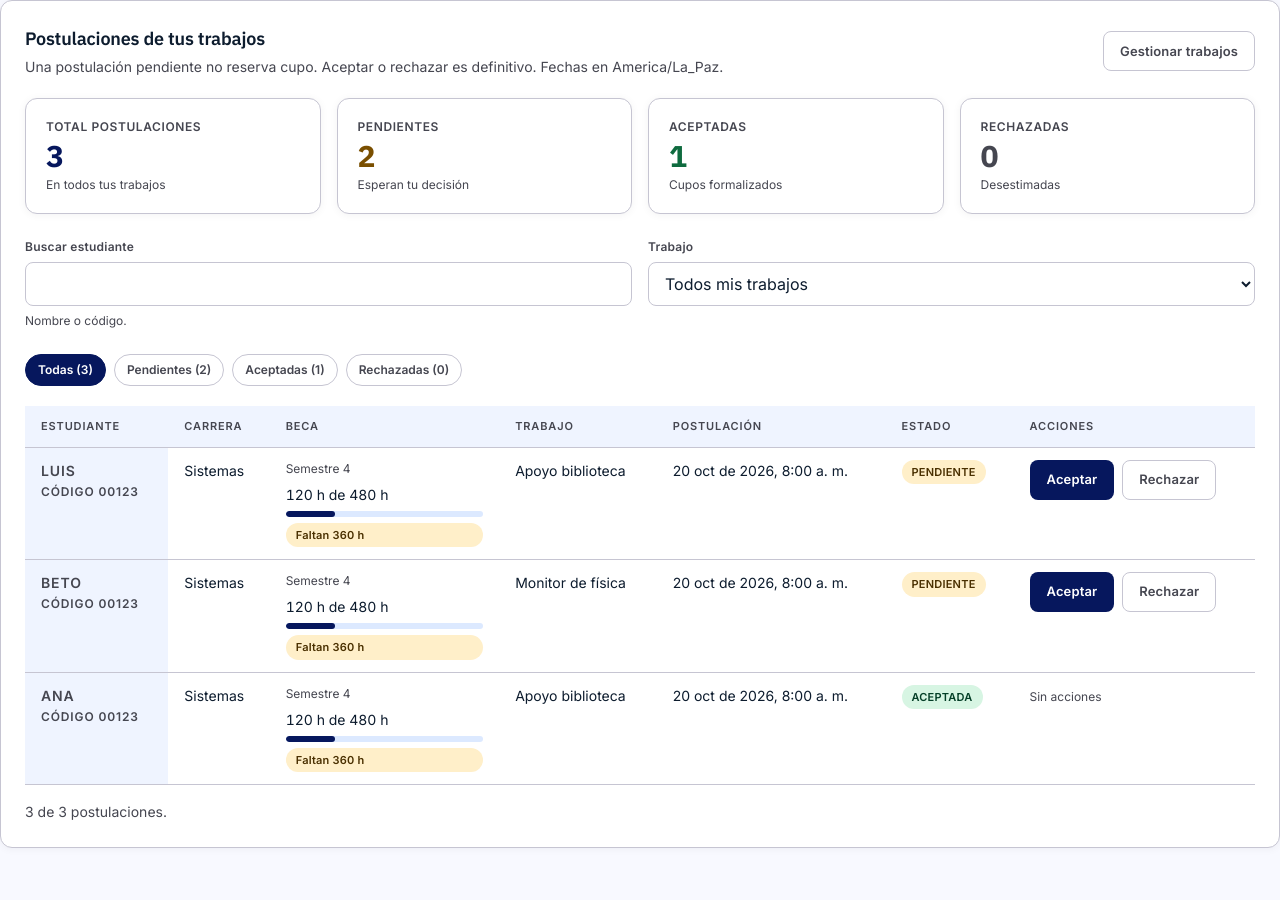
Test: pantalla de postulaciones del encargado › filtra por estado con los chips y por nombre
Click the button "Aceptadas (1)" at (285, 370), box [232,354,338,386]
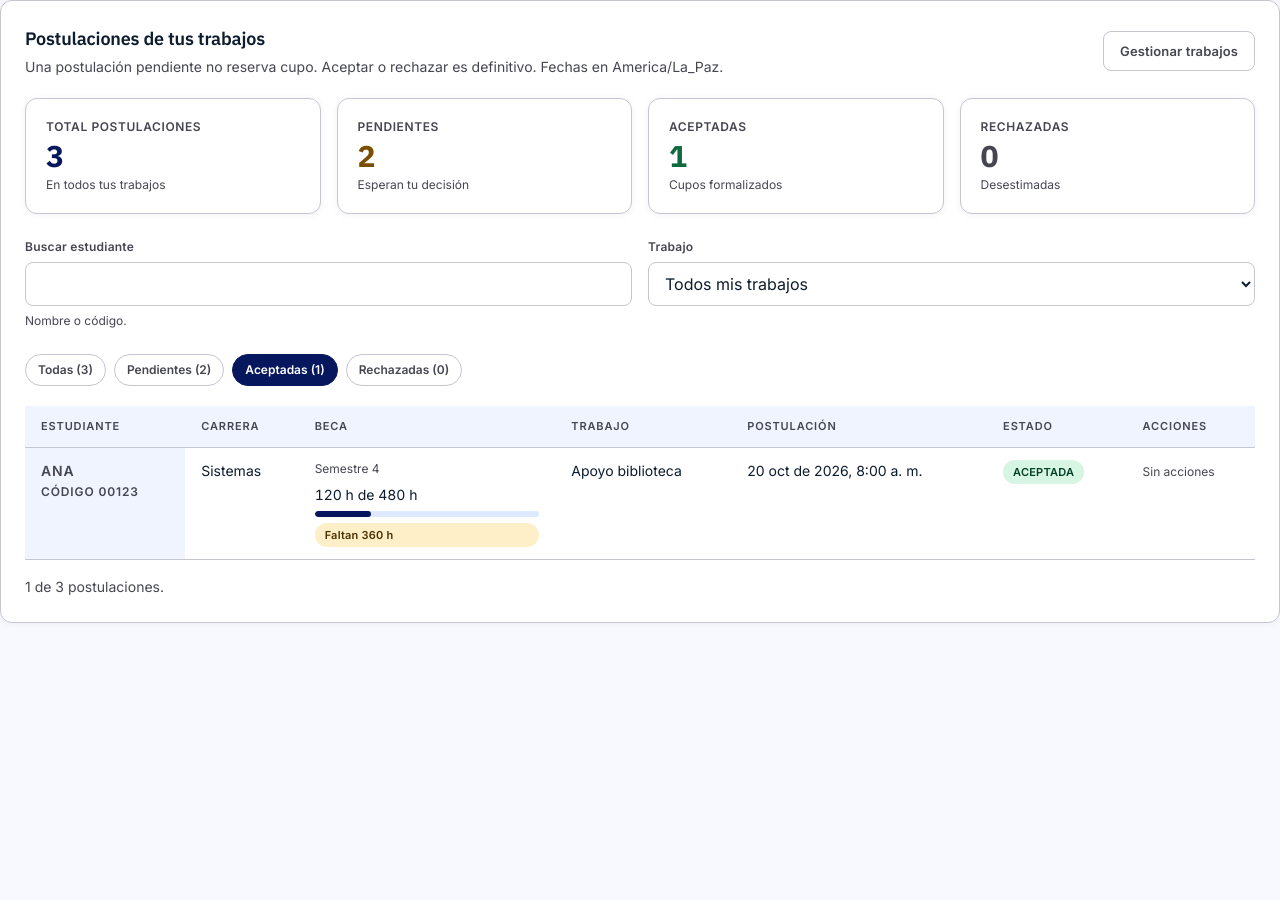
Check: the text "Luis" is gone
Check: the text "Ana" is shown 2 times
Click the button "Todas (3)" at (65, 370), box [25,354,106,386]
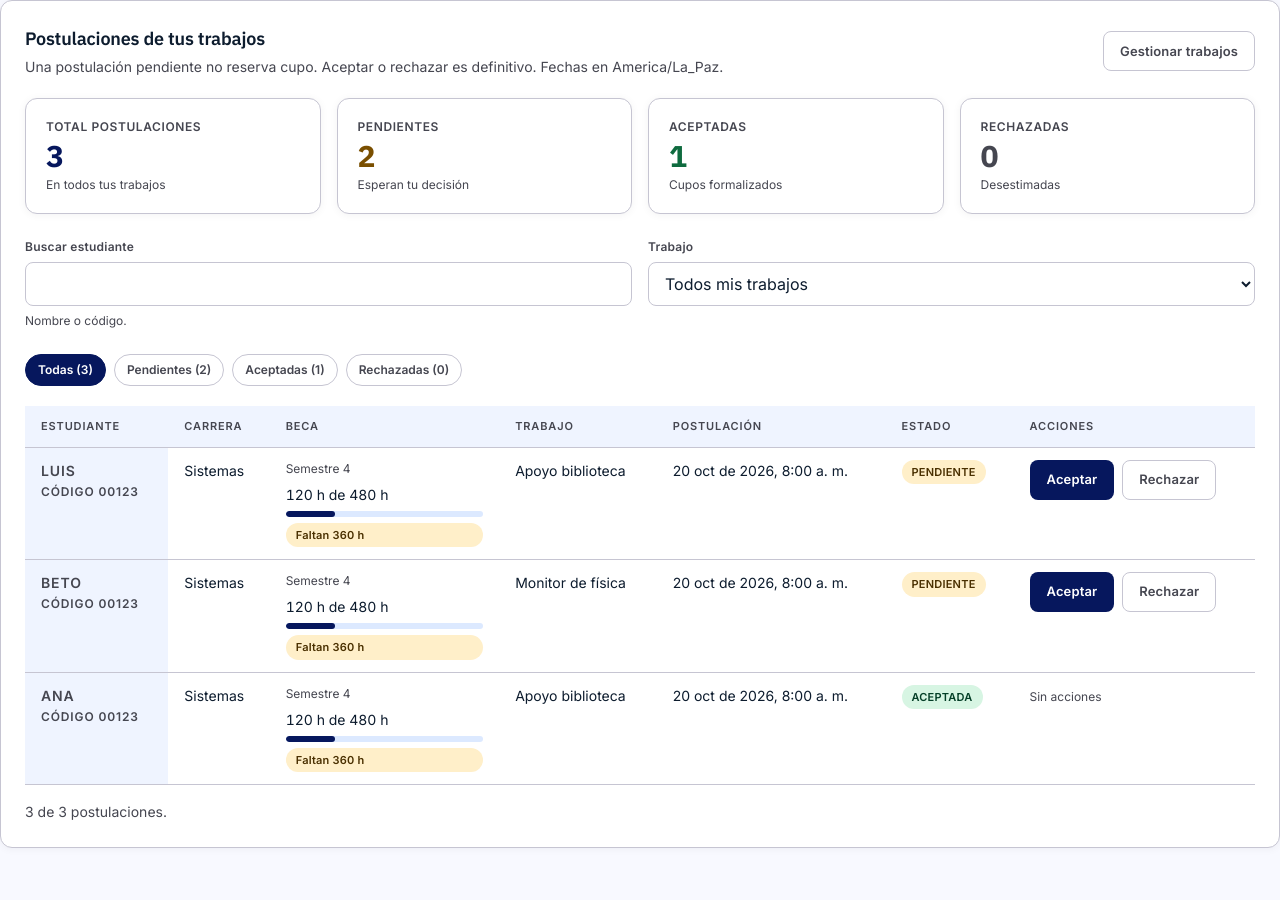
Type "bet" into the search field labelled "Buscar estudiante" at (328, 284), box [25,262,632,306]
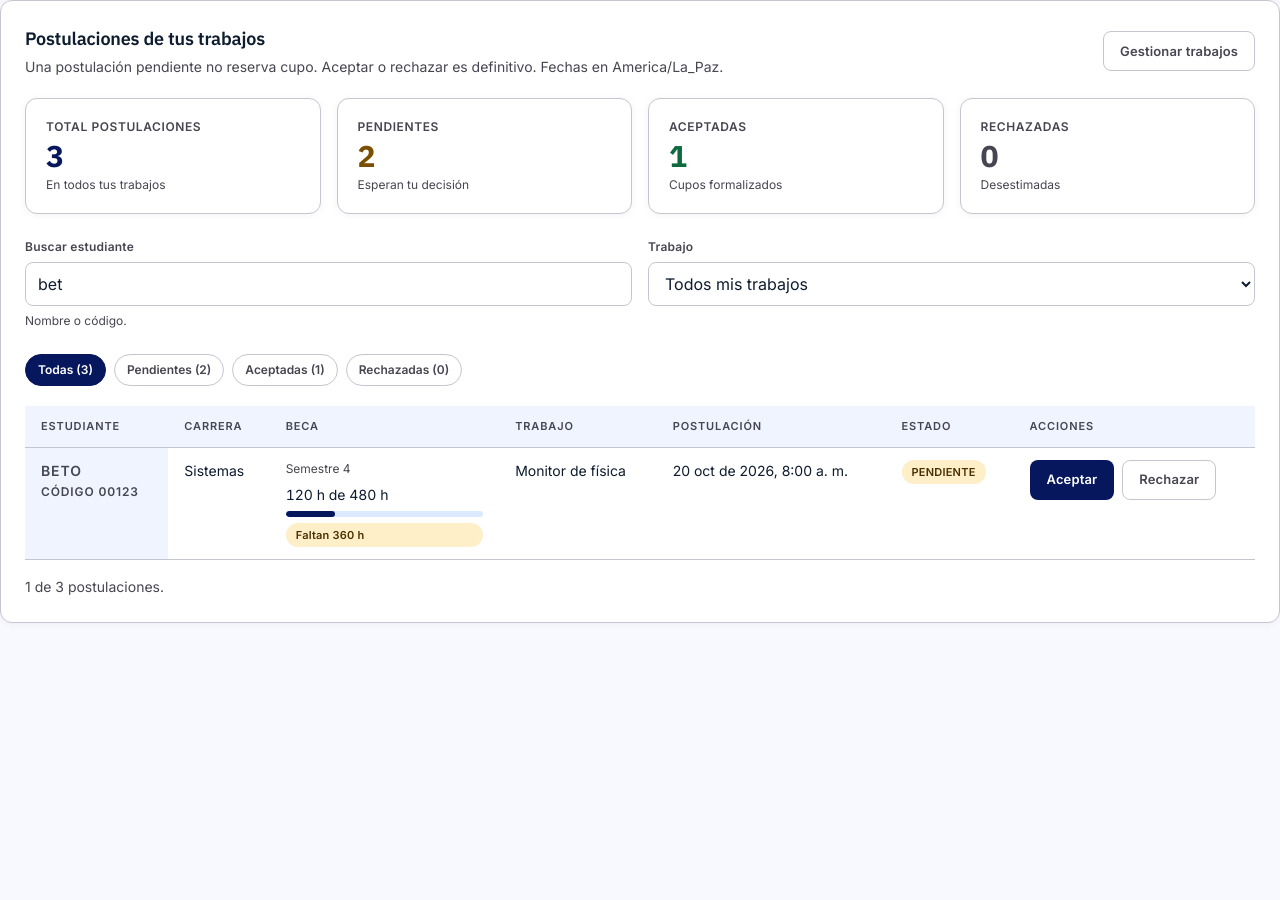
Check: the text "Beto" is shown 2 times
Check: the text "Luis" is gone
